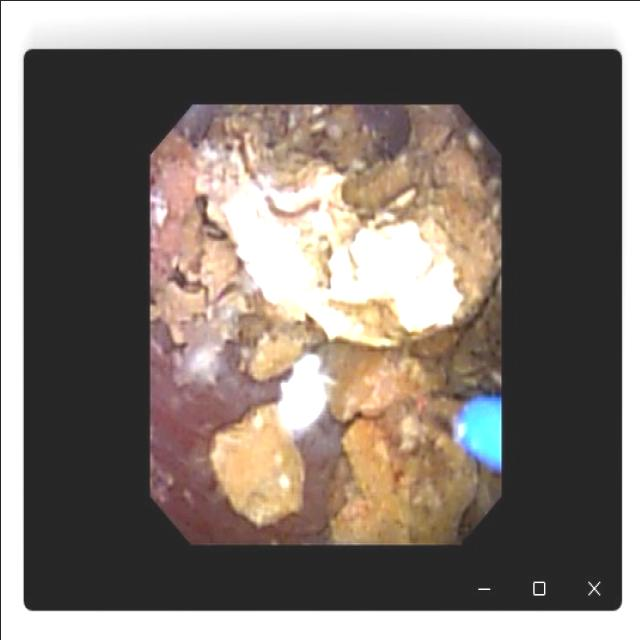fiber: (464, 401, 497, 463)
stone: (152, 112, 495, 387), (321, 340, 475, 540), (207, 357, 323, 525)
